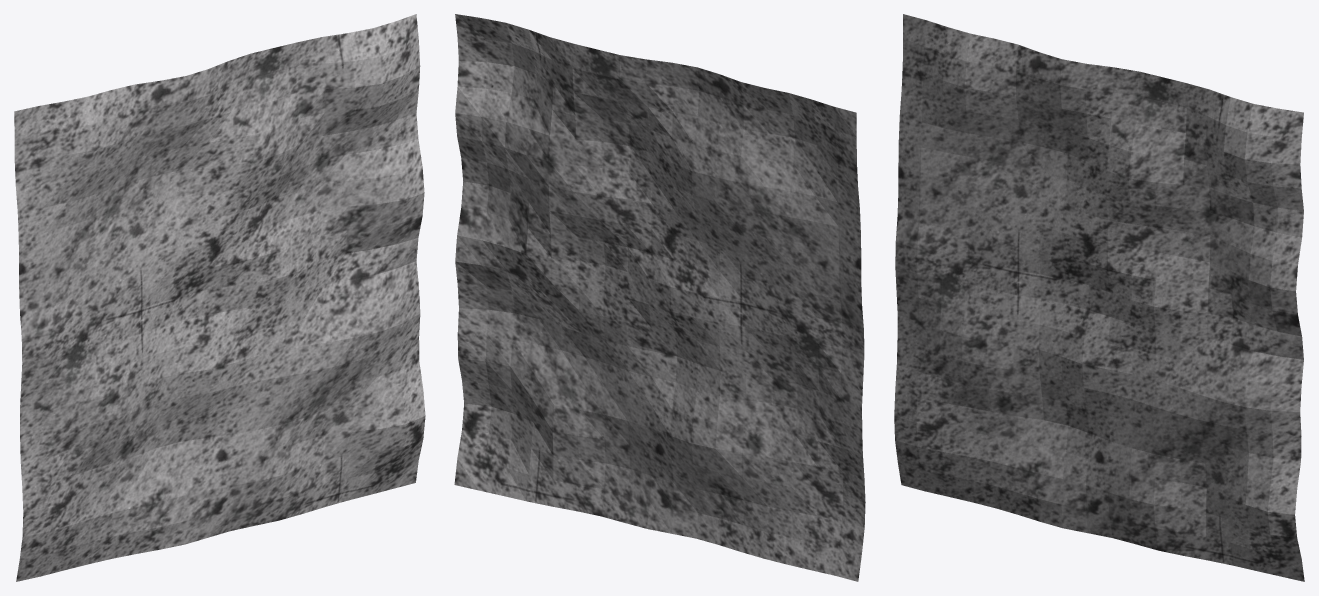
Rendered from model_large.dae.
The picture shows the model from 3 angles, left to right: view 1: azimuth 30°, elevation 25°; view 2: azimuth 150°, elevation 25°; view 3: azimuth 330°, elevation 25°; orthographic projection.
Visible parts, largest first — view 1: node; view 2: node; view 3: node.
Boxes of the visible parts, <box> form: node: <box>14,14,425,581</box>; node: <box>454,14,865,581</box>; node: <box>894,14,1304,581</box>.
Bounding box in the file's own units: 2008 × 2244 × 118.
1 material, 1 textured.
